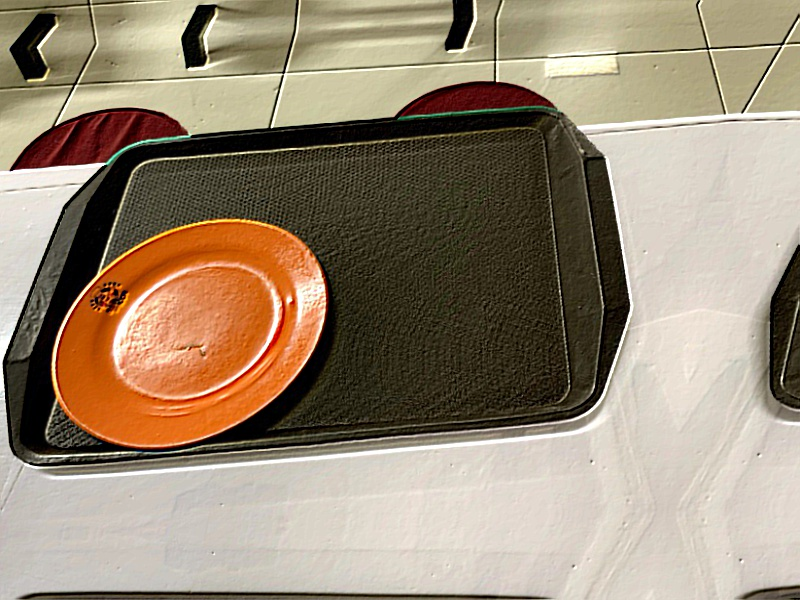dish10: (34, 209, 352, 458)
